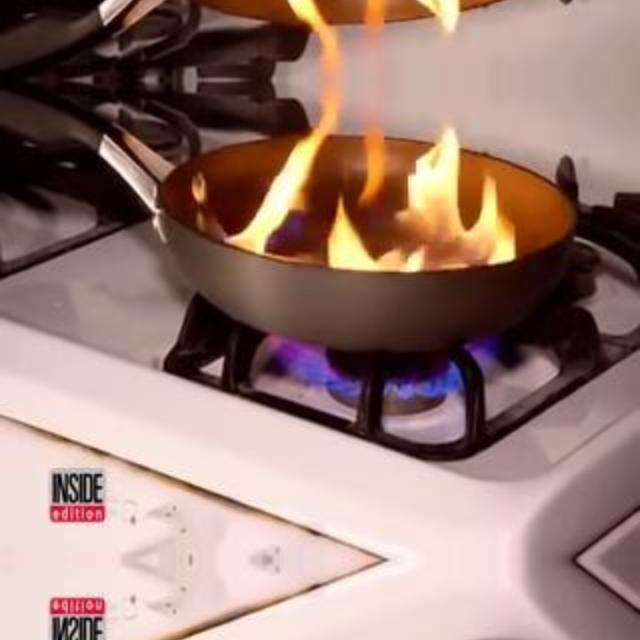smoke: (184, 114, 524, 284), (184, 0, 524, 46)
